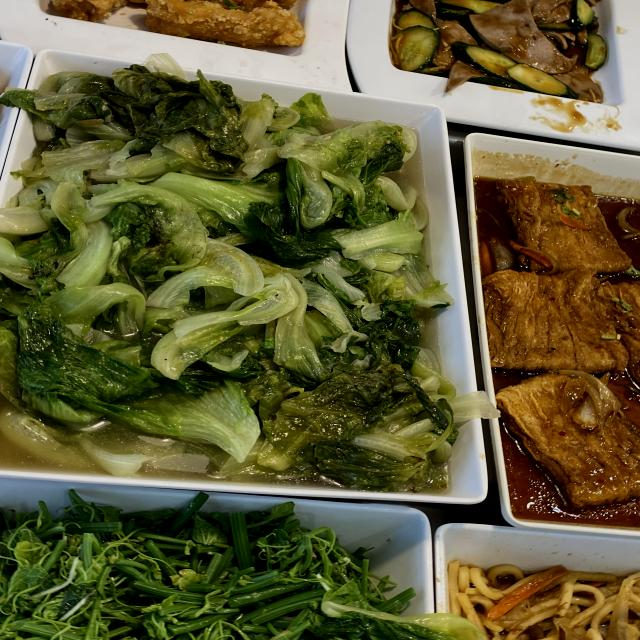Fushan-lettuce: (40, 149, 405, 418)
